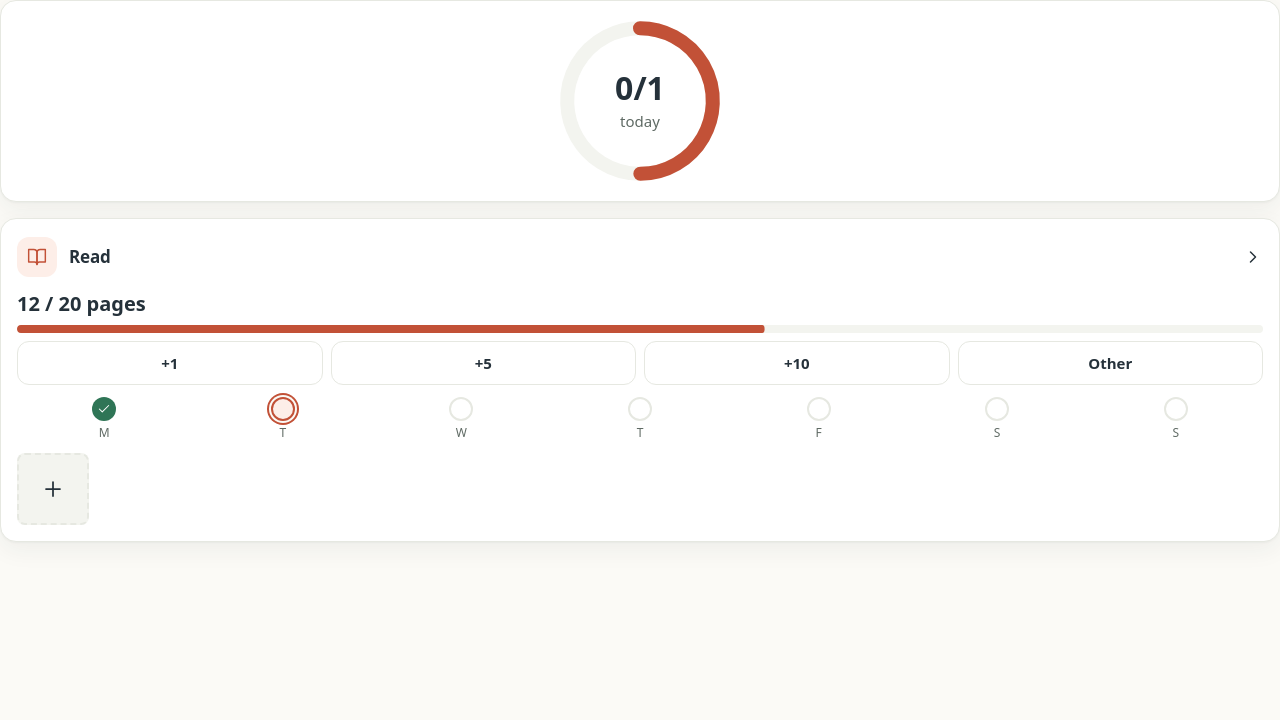
it: today › throws confetti on every post, a big one when the day lands done
Click the button "+5".
click(483, 363)  # box [330,341,636,385]
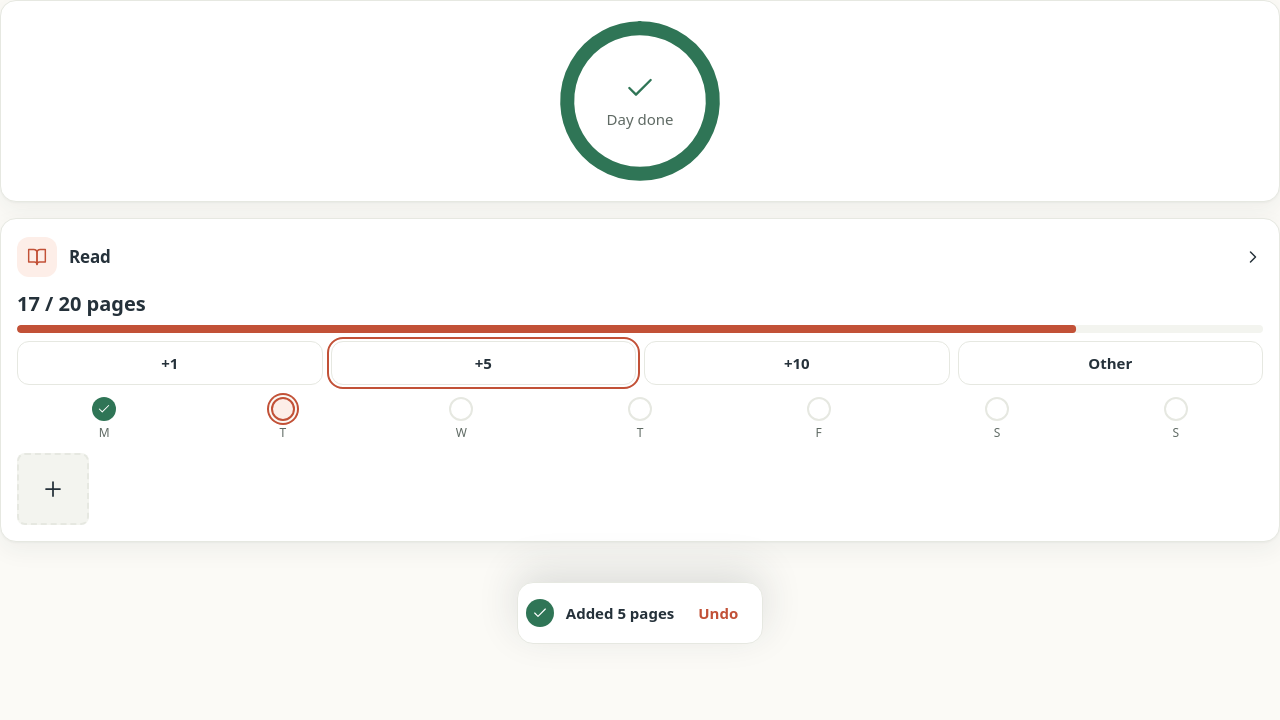
Now the text "17 / 20 pages" is shown, box [17,291,146,317]
Click the button "+5".
click(483, 363)  # box [330,341,636,385]
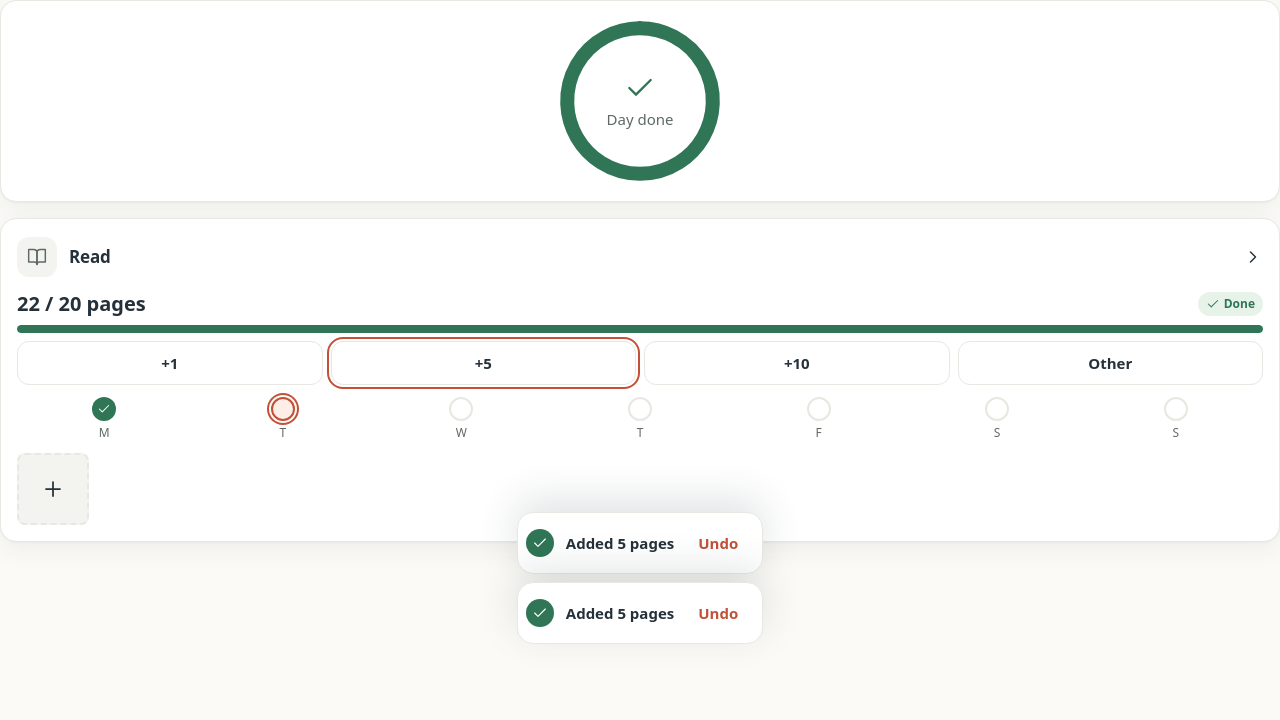
Now the text "22 / 20 pages" is shown, box [17,291,146,317]
Click the button "+5".
click(483, 363)  # box [330,341,636,385]
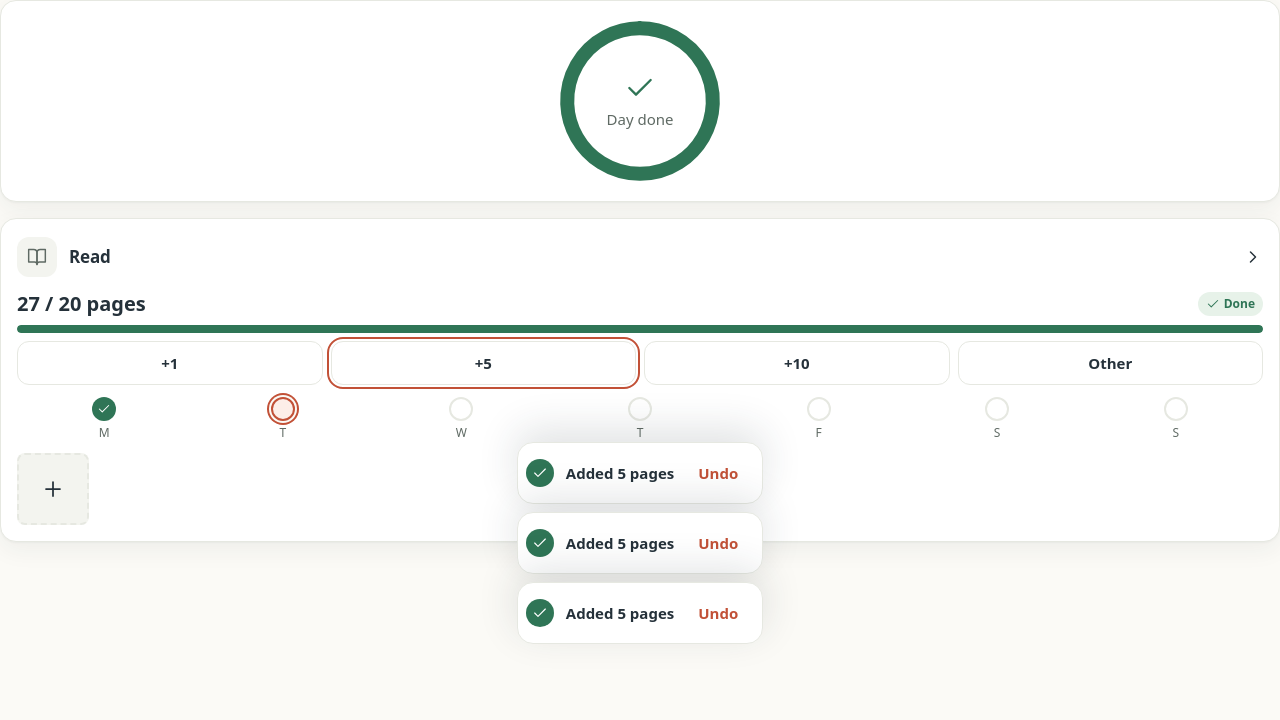
Now the text "27 / 20 pages" is shown, box [17,291,146,317]
